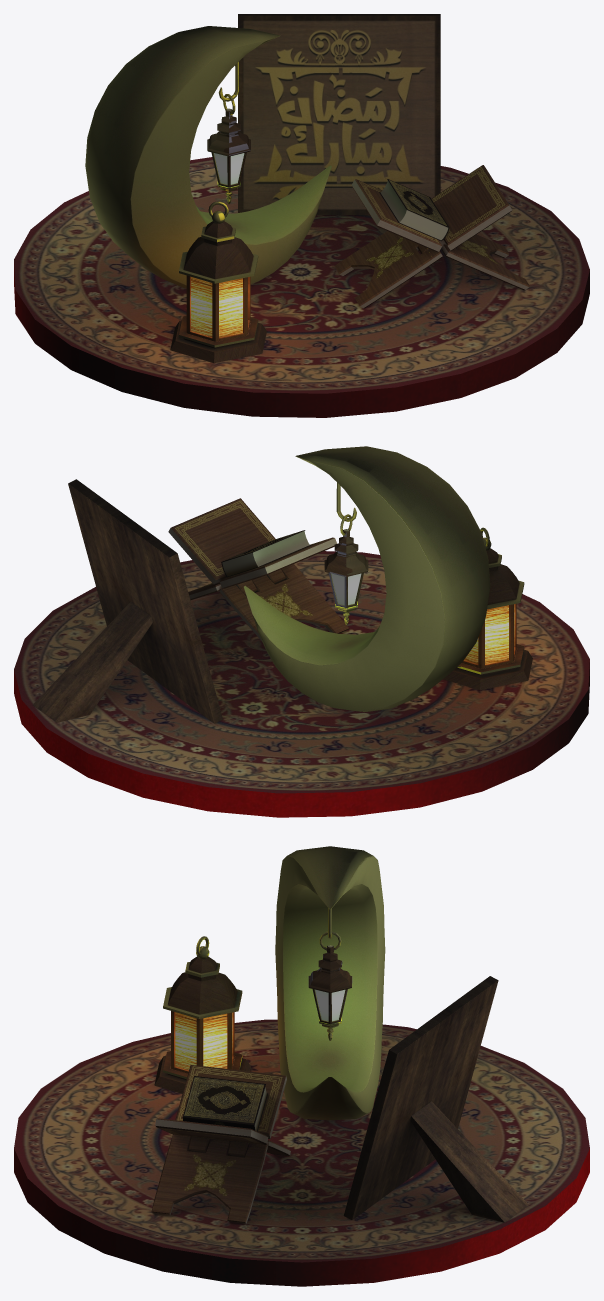
File: ramadan.gltf
3 views of the same model, one above another, from view 1: azimuth 30°, elevation 25°; view 2: azimuth 150°, elevation 25°; view 3: azimuth 270°, elevation 25° (orthographic).
Parts seen in each view (by area): view 1: Cylinder001, Box002, Circle001, Object005, Object006, pCylinder10, Line001; view 2: Cylinder001, Circle001, Box002, Object005, Object006, pCylinder10, Line001; view 3: Cylinder001, Circle001, Box002, Object005, Object006, Line001, pCylinder10.
Part boxes in pixels (<box>): Cylinder001: <box>14,157,589,417</box>; Box002: <box>238,14,440,214</box>; Circle001: <box>85,26,331,288</box>; Object005: <box>334,165,529,308</box>; Object006: <box>170,201,266,362</box>; pCylinder10: <box>207,62,250,204</box>; Line001: <box>379,179,449,241</box>; Cylinder001: <box>14,551,589,817</box>; Circle001: <box>243,446,490,711</box>; Box002: <box>33,479,222,723</box>; Object005: <box>168,498,349,641</box>; Object006: <box>443,527,532,689</box>; pCylinder10: <box>324,482,368,624</box>; Line001: <box>221,530,310,577</box>; Cylinder001: <box>14,1019,589,1286</box>; Circle001: <box>275,846,385,1120</box>; Box002: <box>343,976,528,1222</box>; Object005: <box>151,1065,290,1223</box>; Object006: <box>154,936,250,1093</box>; Line001: <box>182,1076,267,1131</box>; pCylinder10: <box>308,908,352,1040</box>.
Bounding box in the file's own units: 7.22 × 3.74 × 7.23.
8 materials, 8 textured.
